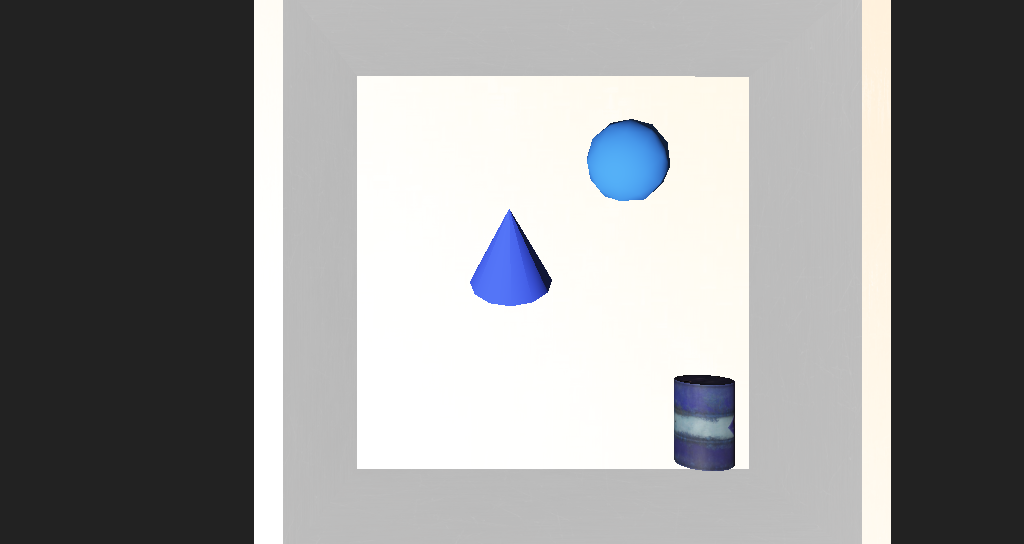cone: (593, 324, 647, 372)
cylinder: (441, 220, 502, 286)
sphere: (525, 188, 593, 231)
